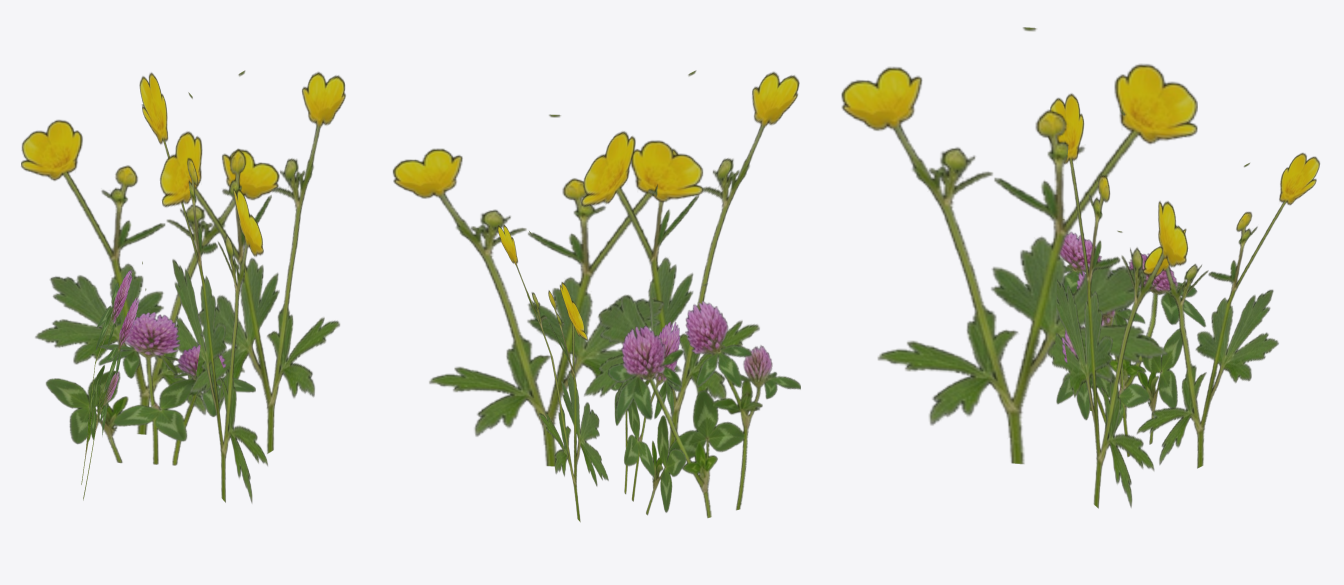
The model's file is flowers_a.glb.
3 renders of one model, left to right at view 1: azimuth 30°, elevation 25°; view 2: azimuth 150°, elevation 25°; view 3: azimuth 270°, elevation 25°, orthographic. The views are drawn at different scales.
Visible parts, largest first — view 1: flowers_a; view 2: flowers_a; view 3: flowers_a.
Part boxes in pixels (x1,y1,x2,y2): flowers_a: [21, 70, 345, 503]; flowers_a: [393, 70, 800, 522]; flowers_a: [841, 27, 1319, 508].
Bounding box in the file's own units: 0.3843 × 0.4283 × 0.4521.
Materials: 1 (1 with a texture image).
